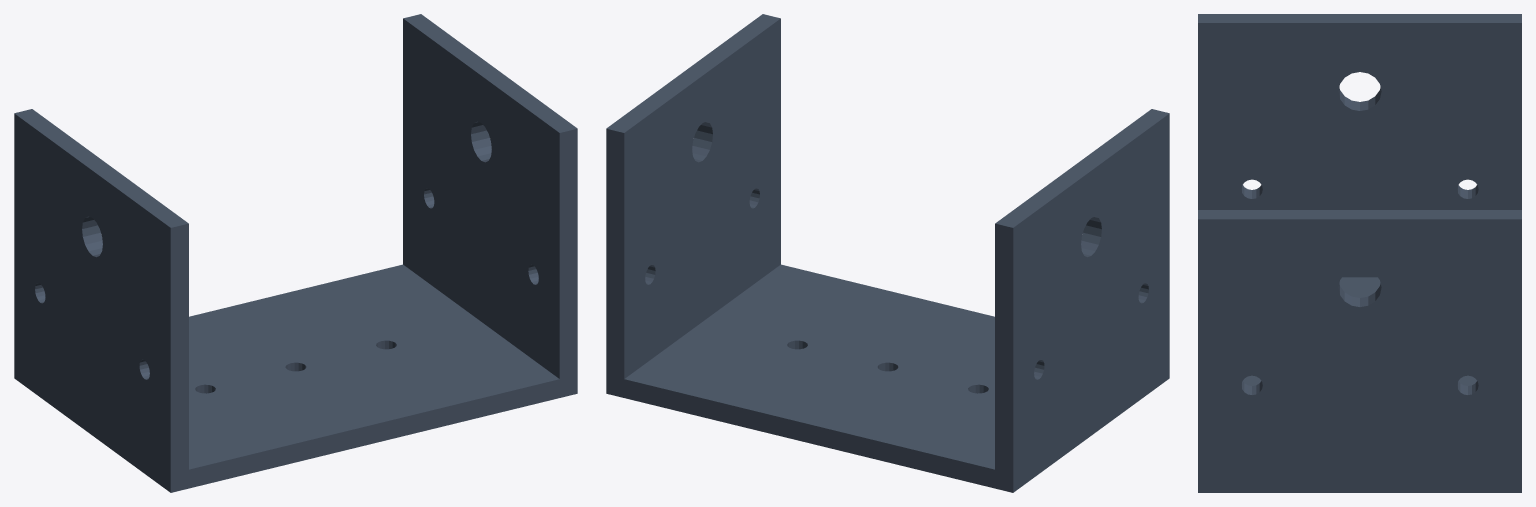
The model's file is kit_u_bracket_large.obj.
The picture shows the model from 3 angles, left to right: view 1: azimuth 30°, elevation 25°; view 2: azimuth 150°, elevation 25°; view 3: azimuth 270°, elevation 25°; orthographic projection. The views are drawn at different scales.
Visible parts, largest first — view 1: kit_u_bracket_large; view 2: kit_u_bracket_large; view 3: kit_u_bracket_large.
Part boxes in pixels (x1,y1,x2,y2): kit_u_bracket_large: (14,14,577,492); kit_u_bracket_large: (606,14,1169,492); kit_u_bracket_large: (1198,14,1521,492).
Bounding box in the file's own units: 0.09 × 0.056 × 0.06.
